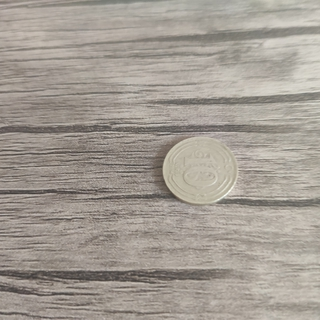10KURUS: (160, 134, 238, 207)
